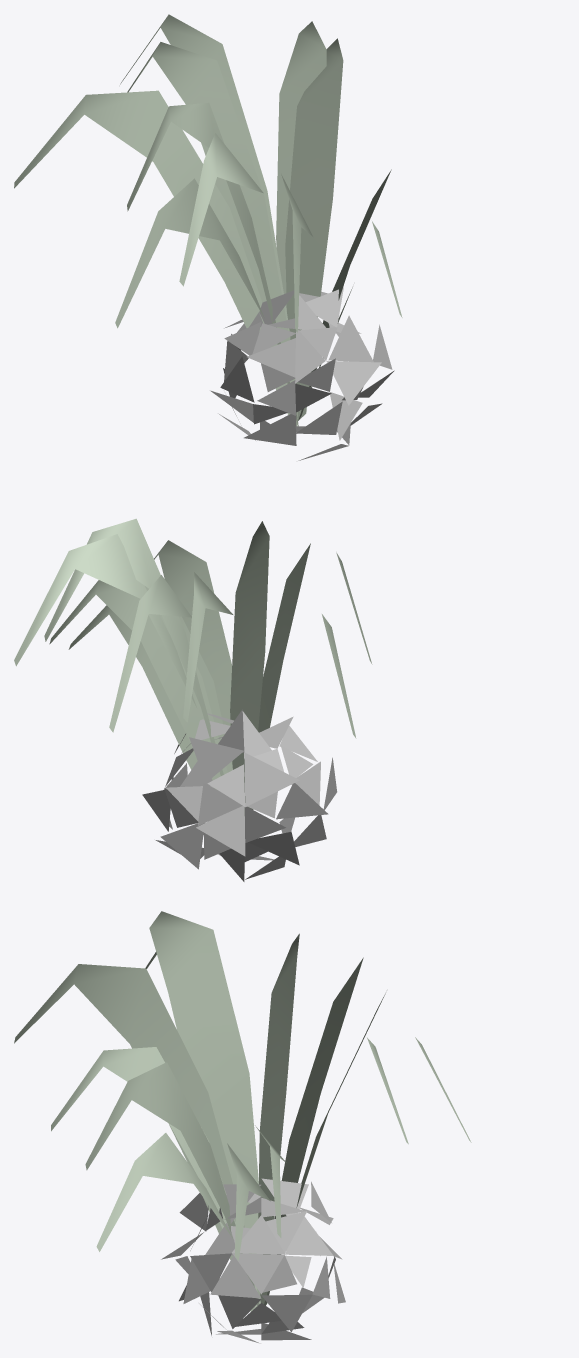
Rendered from 1732-Buildings-part-models-foliage.glb.
3 views of the same model, one above another, from view 1: azimuth 30°, elevation 25°; view 2: azimuth 150°, elevation 25°; view 3: azimuth 270°, elevation 25° (orthographic). The views are drawn at different scales.
Visible parts, largest first — view 1: Buildings: part models/foliage; view 2: Buildings: part models/foliage; view 3: Buildings: part models/foliage.
Part boxes in pixels (bbox=[...]): Buildings: part models/foliage: bbox=[14, 14, 402, 460]; Buildings: part models/foliage: bbox=[14, 518, 372, 881]; Buildings: part models/foliage: bbox=[14, 911, 471, 1343].
Bounding box in the file's own units: 0.6024 × 0.4804 × 0.6677.
